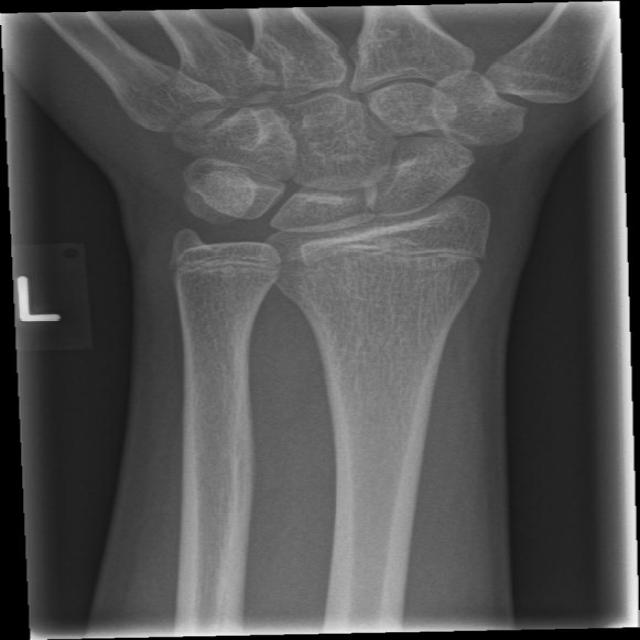fracture: (268, 233, 500, 286), (159, 244, 291, 289)
